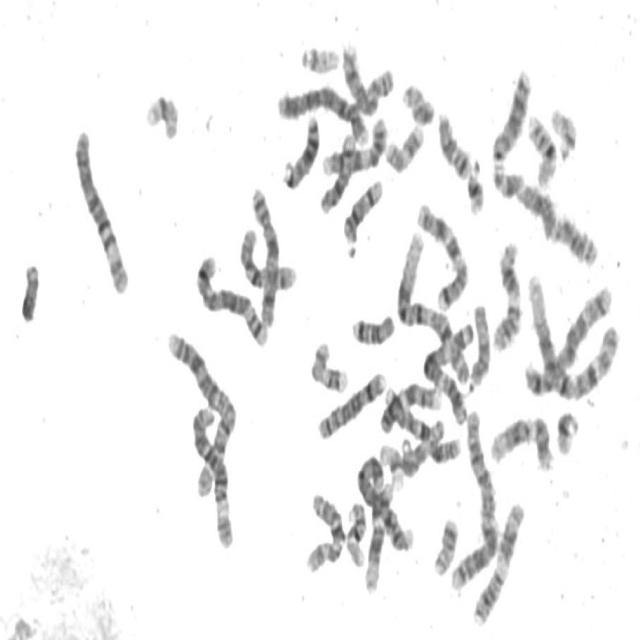A1: (392, 223, 474, 387), (523, 268, 619, 401)
A2: (164, 324, 238, 498), (447, 402, 500, 592)
A3: (486, 145, 595, 264), (421, 310, 476, 426)
B4: (274, 77, 372, 147), (354, 448, 417, 554)
B5: (524, 291, 614, 397), (193, 245, 271, 348)
C10: (236, 220, 298, 292), (302, 484, 348, 575)
C11: (468, 493, 528, 628), (489, 232, 524, 354)
C12: (487, 406, 556, 471), (361, 474, 394, 596)
C6: (71, 120, 132, 296), (187, 398, 236, 552)
C7: (380, 379, 462, 466), (414, 194, 472, 312)
C8: (314, 362, 388, 441), (338, 34, 396, 118)
C9: (319, 121, 389, 177), (378, 375, 443, 435)
D13: (489, 60, 534, 171), (279, 106, 322, 190)
D14: (340, 170, 386, 245), (316, 134, 356, 215)
D15: (466, 295, 493, 388), (404, 418, 445, 477)
E16: (524, 107, 560, 188), (343, 494, 369, 568)
E17: (307, 333, 351, 396), (382, 116, 426, 175)
E18: (434, 103, 474, 181), (348, 306, 397, 348)
F19: (142, 85, 182, 143), (377, 436, 406, 492)
F20: (430, 508, 461, 578), (398, 74, 436, 127)
G21: (553, 403, 581, 458), (464, 152, 487, 217)
G22: (547, 98, 580, 162), (297, 36, 342, 75)
X: (247, 178, 282, 328)
Y: (17, 254, 42, 324)
